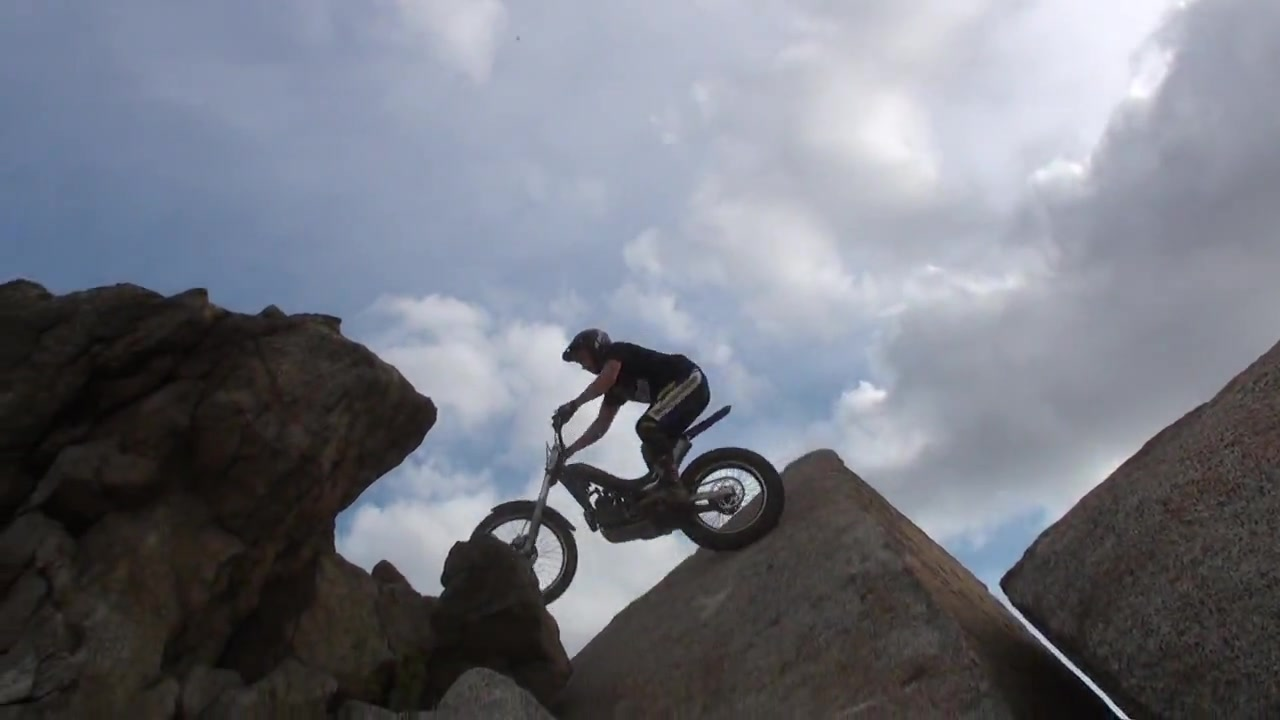motorbike: (469, 404, 789, 611)
